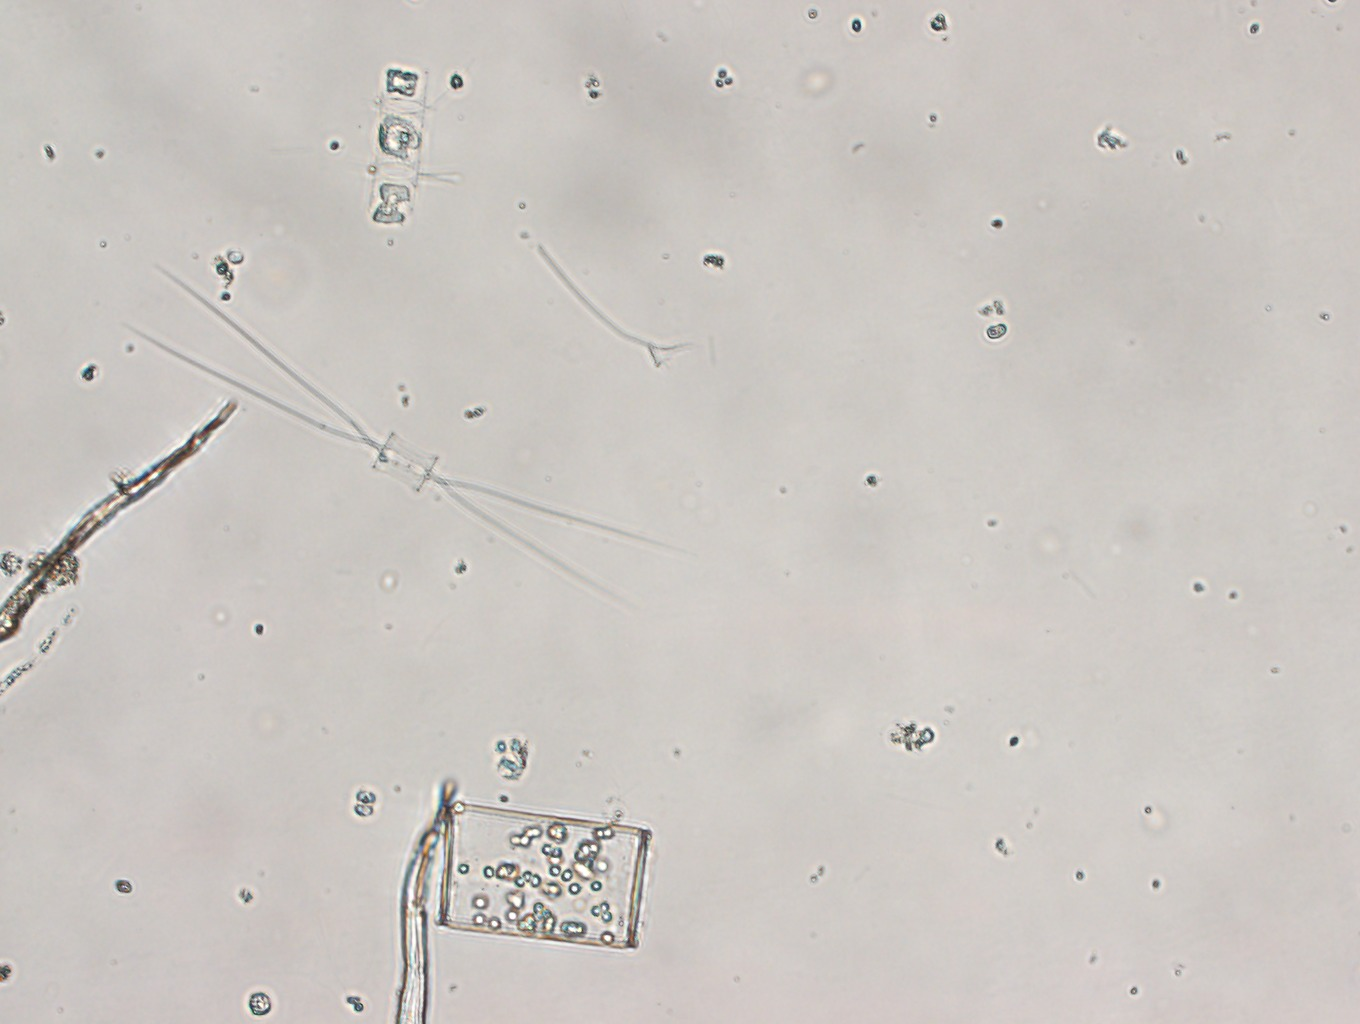chaetoceros: (129, 258, 691, 611), (367, 65, 481, 232)
guinardia flaccida: (435, 803, 650, 951)
